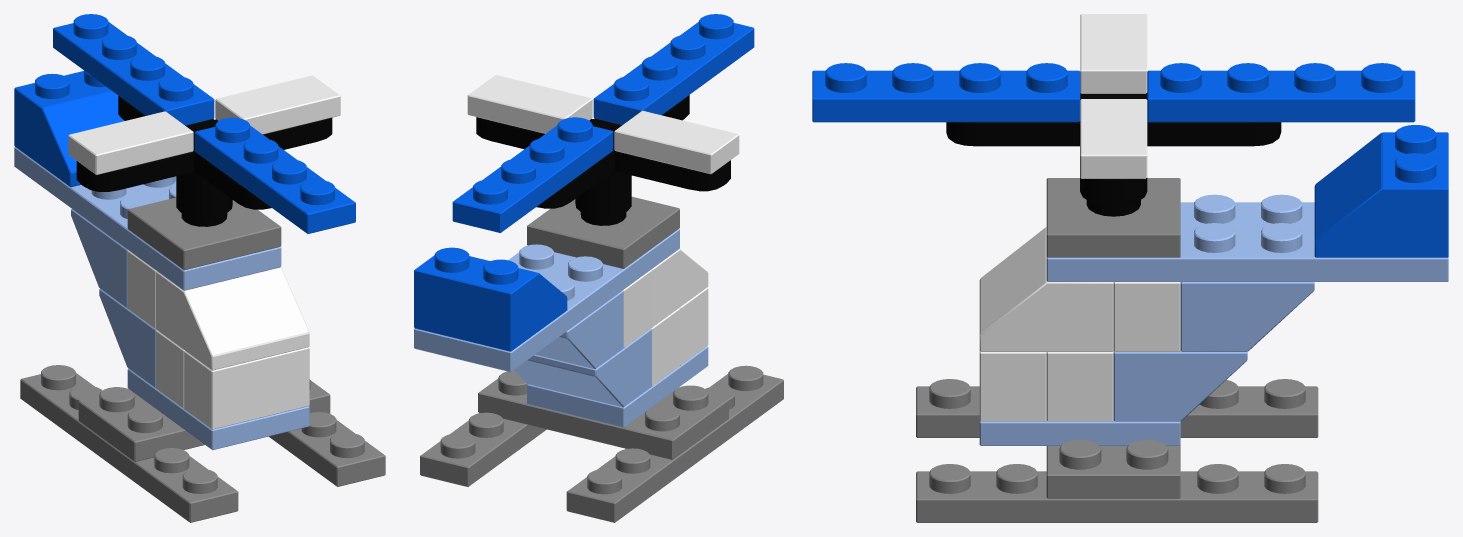
File: helicopter.glb
The picture shows the model from 3 angles, left to right: view 1: azimuth 30°, elevation 25°; view 2: azimuth 150°, elevation 25°; view 3: azimuth 270°, elevation 25°; orthographic projection. The views are drawn at different scales.
Parts seen in each view (by area): view 1: roof_2x2_002, low_1x6_002, low_1x4_002, low_1x4_003, low_2x6_002, roof_2x2_003, high_1x2_004, low_2x2_002, low_1x4_004, low_2x4_002, smooth_1x2_002, low_1x6_003 (+7 smaller); view 2: roof_2x2_003, low_1x6_002, low_2x4_002, low_2x6_002, low_1x4_003, low_1x4_002, low_2x2_002, low_1x4_004, rev_2x2_002, smooth_1x2_002, low_1x6_003, smooth_1x2_003 (+7 smaller); view 3: low_1x6_003, low_2x6_002, roof_2x2_003, low_1x4_003, low_1x4_002, roof_2x2_002, low_1x6_002, low_2x2_002, low_1x4_004, low_2x4_002, rev_2x2_003, rev_2x2_002 (+7 smaller).
Boxes of the visible parts, left/top/right/bottom form: roof_2x2_002: left=156, top=267, right=309, bottom=370; low_1x6_002: left=20, top=365, right=238, bottom=522; low_1x4_002: left=194, top=117, right=355, bottom=233; low_1x4_003: left=53, top=14, right=214, bottom=125; low_2x6_002: left=14, top=147, right=281, bottom=290; roof_2x2_003: left=14, top=70, right=124, bottom=187; high_1x2_004: left=184, top=347, right=309, bottom=429; low_2x2_002: left=127, top=197, right=281, bottom=270; low_1x4_004: left=76, top=96, right=332, bottom=209; low_2x4_002: left=78, top=379, right=330, bottom=461; smooth_1x2_002: left=68, top=111, right=193, bottom=174; low_1x6_003: left=269, top=412, right=385, bottom=486; roof_2x2_003: left=414, top=247, right=567, bottom=351; low_1x6_002: left=566, top=365, right=783, bottom=522; low_2x4_002: left=478, top=370, right=728, bottom=459; low_2x6_002: left=414, top=229, right=679, bottom=372; low_1x4_003: left=452, top=117, right=613, bottom=232; low_1x4_002: left=593, top=14, right=754, bottom=124; low_2x2_002: left=527, top=196, right=679, bottom=268; low_1x4_004: left=476, top=95, right=730, bottom=208; rev_2x2_002: left=514, top=329, right=651, bottom=407; smooth_1x2_002: left=614, top=110, right=739, bottom=174; low_1x6_003: left=420, top=412, right=546, bottom=486; smooth_1x2_003: left=467, top=75, right=592, bottom=133; low_1x6_003: left=916, top=464, right=1318, bottom=522; low_2x6_002: left=1046, top=194, right=1448, bottom=281; roof_2x2_003: left=1314, top=125, right=1448, bottom=257; low_1x4_003: left=1147, top=63, right=1415, bottom=122; low_1x4_002: left=812, top=63, right=1080, bottom=122; roof_2x2_002: left=979, top=227, right=1113, bottom=351; low_1x6_002: left=916, top=379, right=1318, bottom=437; low_2x2_002: left=1046, top=178, right=1180, bottom=257; low_1x4_004: left=946, top=93, right=1281, bottom=202; low_2x4_002: left=1046, top=440, right=1180, bottom=498; rev_2x2_003: left=1180, top=282, right=1314, bottom=351; rev_2x2_002: left=1113, top=351, right=1247, bottom=421.
Size of the model in its own units: 0.04 by 0.0521 by 0.076.
